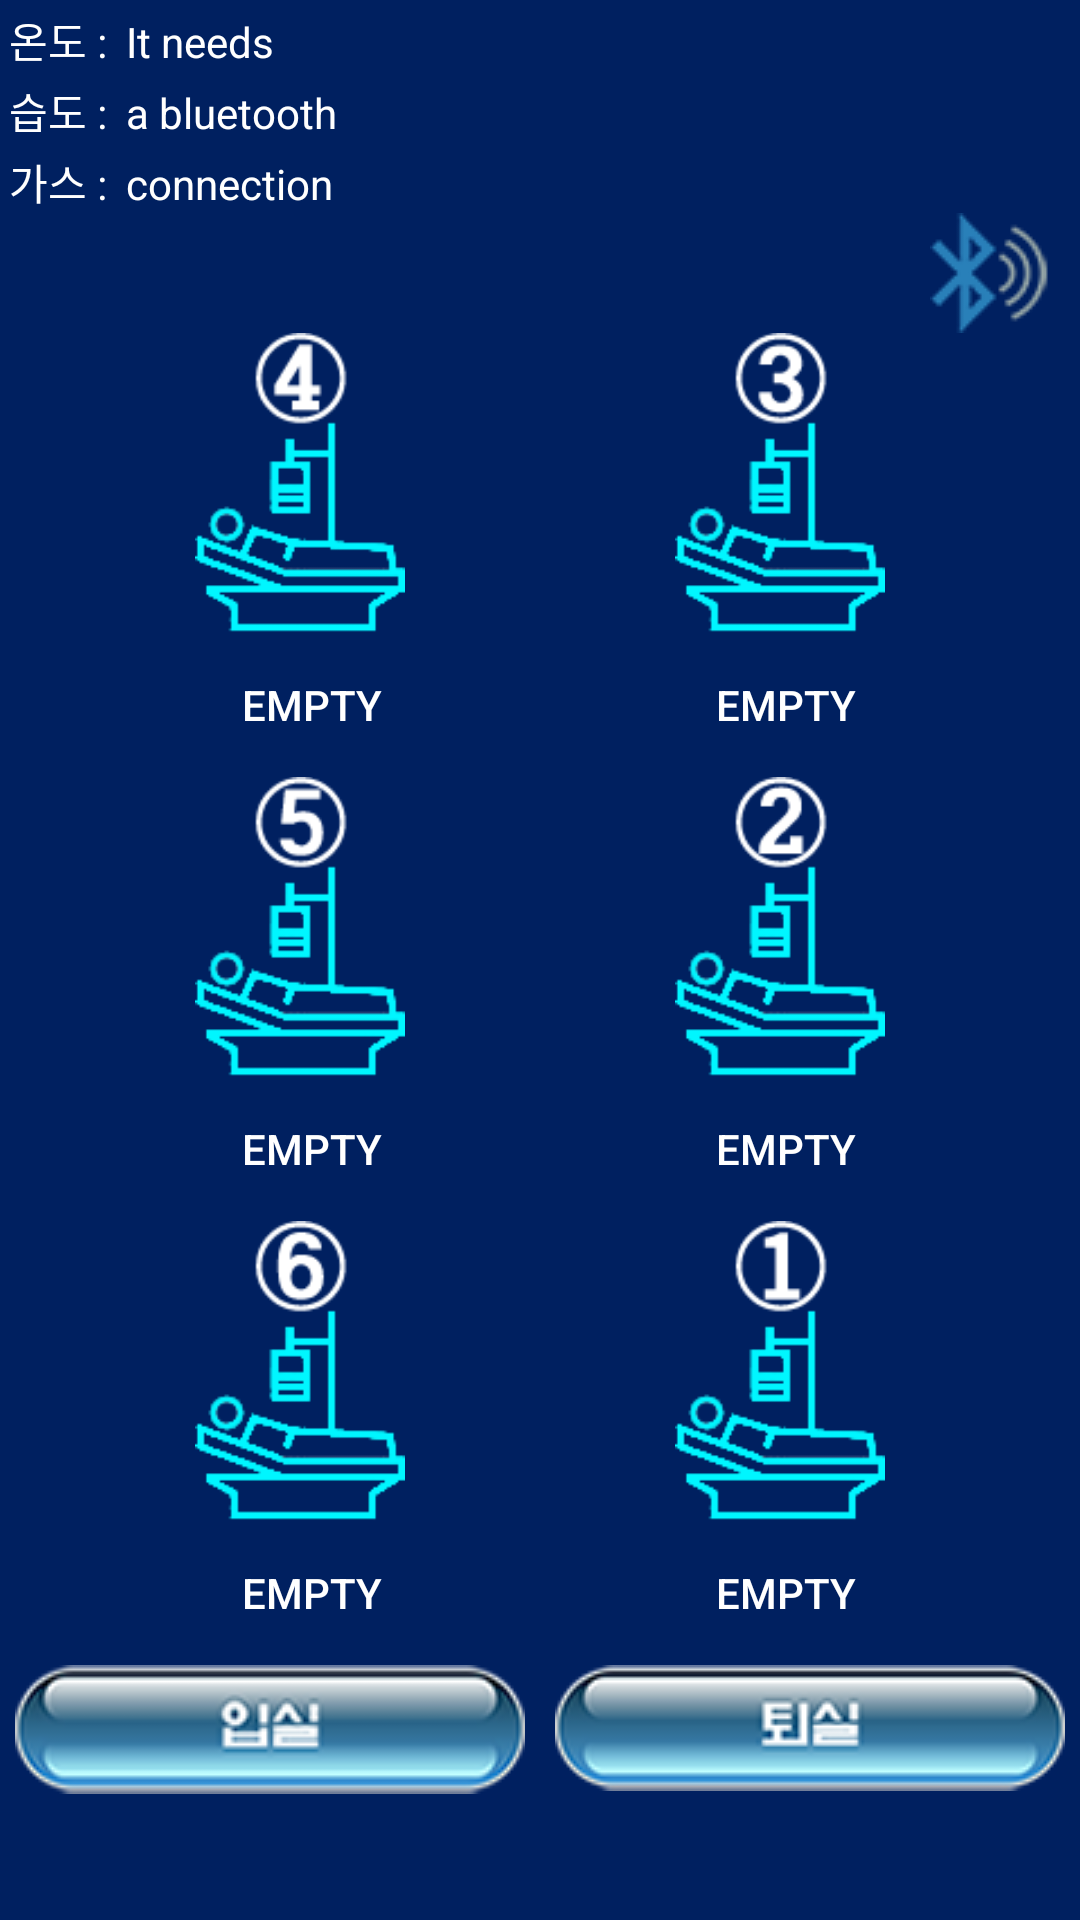

Icon click points for this 1080×1920 phone screenshot, format [x,y]:
patient: [300,482], [780,482], [300,926], [780,926], [300,1370], [780,1370]
